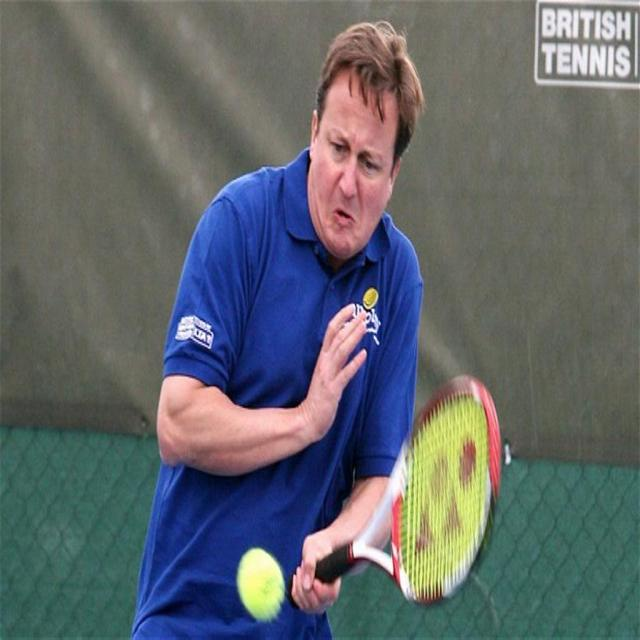Face: (305, 54, 403, 248)
